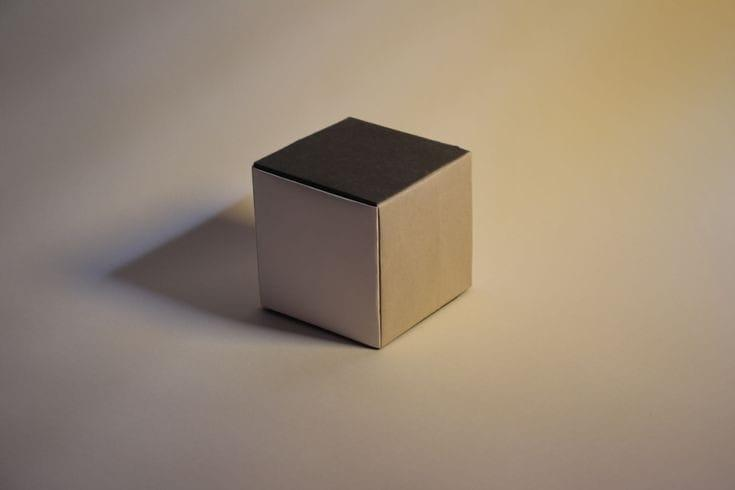cubos: (241, 113, 486, 351)
